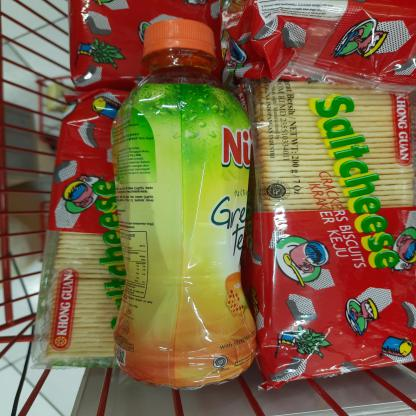bottle: (111, 18, 259, 391)
